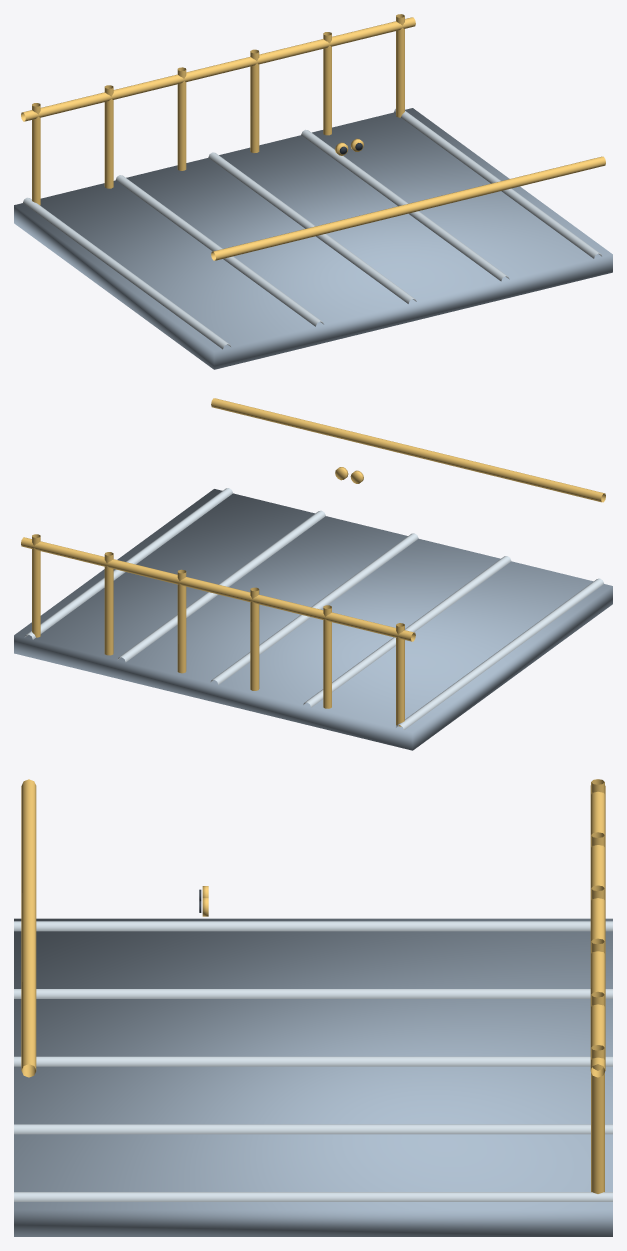
The model's file is 10_L89_OuterExposureInstrumentPlatform.fbx.
The picture shows the model from 3 angles, top to bottom: view 1: azimuth 30°, elevation 25°; view 2: azimuth 150°, elevation 25°; view 3: azimuth 270°, elevation 25°; orthographic projection. The views are drawn at different scales.
Parts seen in each view (by area): view 1: L87_OuterExposureInstrumentPl_Part_0000, L87_OuterExposureInstrumentPl_Part_0002, L87_OuterExposureInstrumentPl_Part_0001; view 2: L87_OuterExposureInstrumentPl_Part_0000, L87_OuterExposureInstrumentPl_Part_0002, L87_OuterExposureInstrumentPl_Part_0001; view 3: L87_OuterExposureInstrumentPl_Part_0000, L87_OuterExposureInstrumentPl_Part_0001, L87_OuterExposureInstrumentPl_Part_0002.
Boxes of the visible parts, x1,y1,x2,y2 form: L87_OuterExposureInstrumentPl_Part_0000: [14, 108, 612, 369]; L87_OuterExposureInstrumentPl_Part_0002: [21, 14, 605, 260]; L87_OuterExposureInstrumentPl_Part_0001: [23, 108, 601, 349]; L87_OuterExposureInstrumentPl_Part_0000: [14, 489, 612, 750]; L87_OuterExposureInstrumentPl_Part_0002: [21, 398, 605, 726]; L87_OuterExposureInstrumentPl_Part_0001: [24, 488, 603, 729]; L87_OuterExposureInstrumentPl_Part_0000: [14, 918, 612, 1236]; L87_OuterExposureInstrumentPl_Part_0001: [14, 921, 612, 1201]; L87_OuterExposureInstrumentPl_Part_0002: [21, 779, 605, 1193].
Bounding box in the file's own units: 4.6 × 1.47 × 4.
